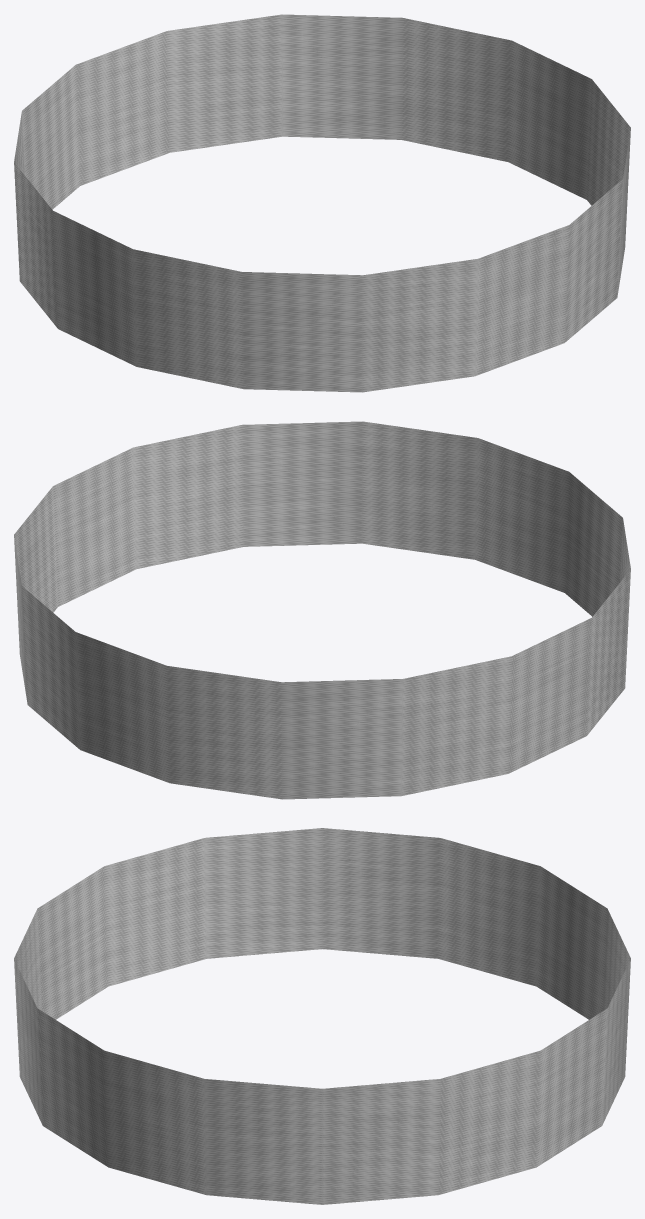
File: acc_mask.obj
The picture shows the model from 3 angles, top to bottom: view 1: azimuth 30°, elevation 25°; view 2: azimuth 150°, elevation 25°; view 3: azimuth 270°, elevation 25°; orthographic projection.
Parts seen in each view (by area): view 1: acc_mask; view 2: acc_mask; view 3: acc_mask.
Boxes of the visible parts, x1=… form: acc_mask: x1=14, y1=14, x2=630, y2=392; acc_mask: x1=14, y1=421, x2=630, y2=799; acc_mask: x1=14, y1=828, x2=630, y2=1204.
Bounding box in the file's own units: 0.212 × 0.045 × 0.212.
Materials: 1 (1 with a texture image).
